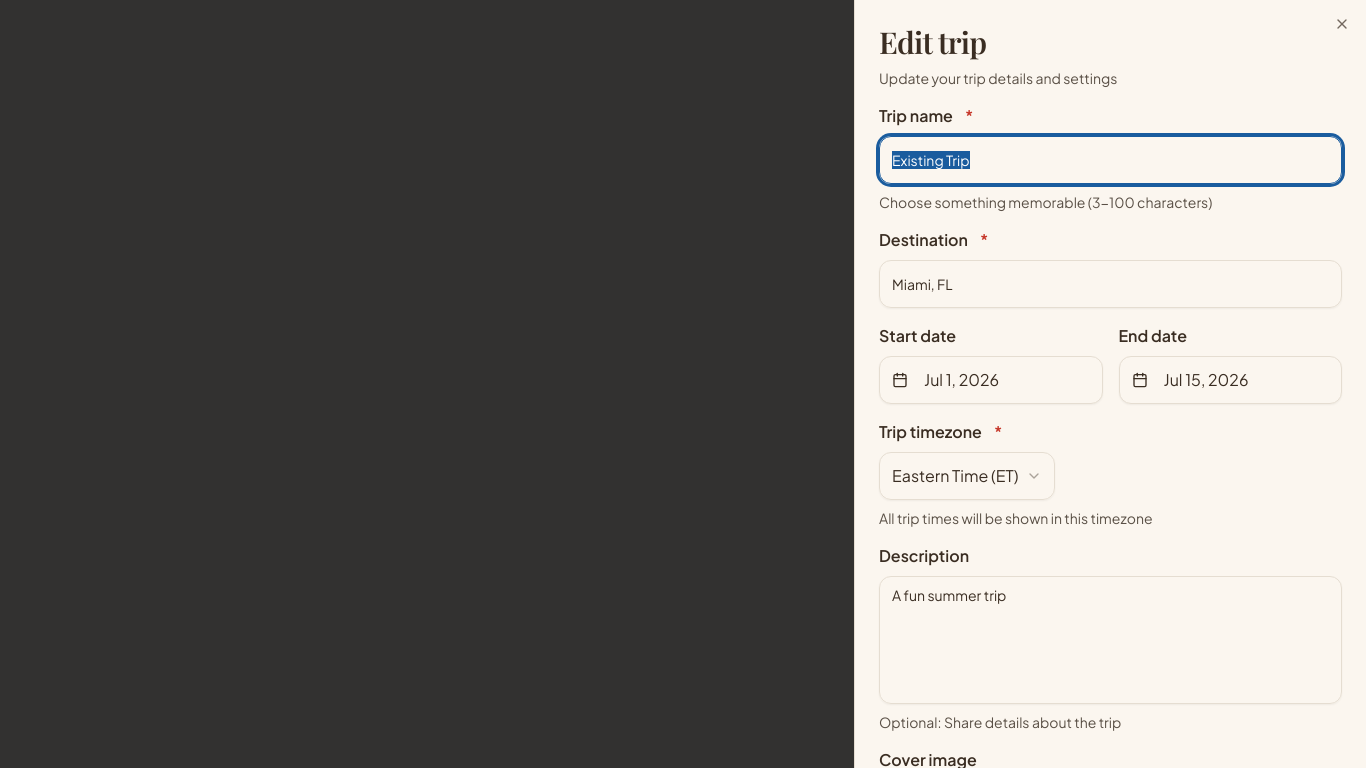
Test: EditTripDialog › Field validation › shows error when trip name is too short
The image size is (1366, 768).
Replace the text in the field labelled "Trip name *" with "AB" at [1110, 160], box [879,136,1342,184]
(page scrolled)
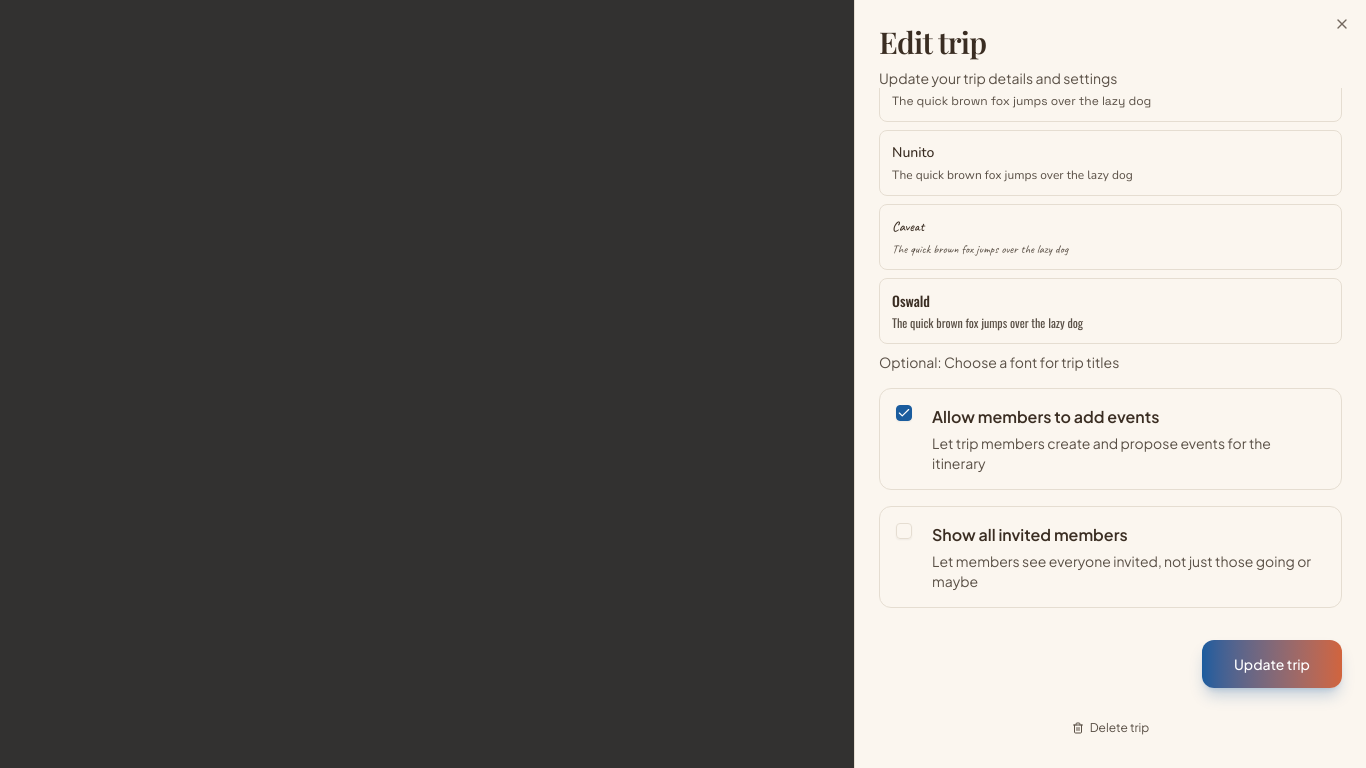
Click the button "Update trip" at [1272, 664], box [1202,640,1342,688]
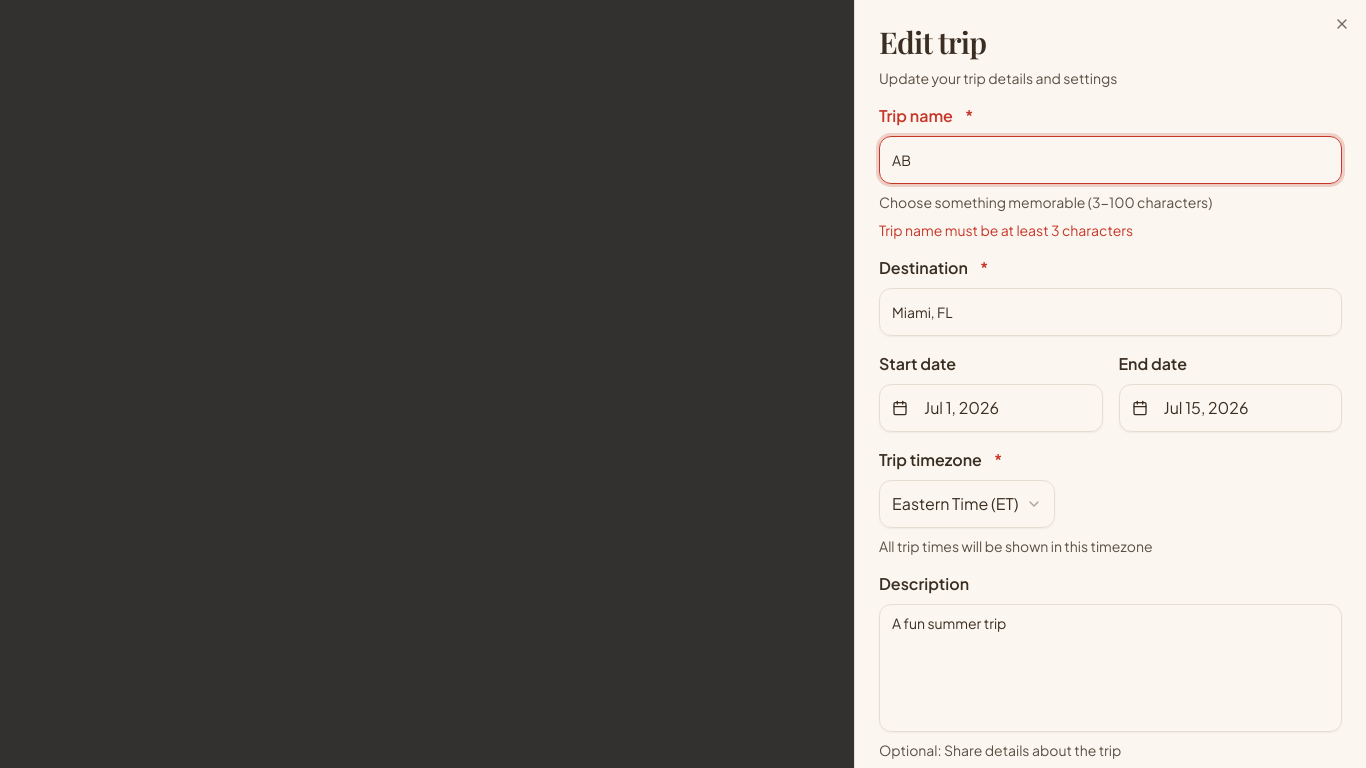
Expected: the text "Trip name must be at least 3 characters" is shown, [879,221,1133,239]
